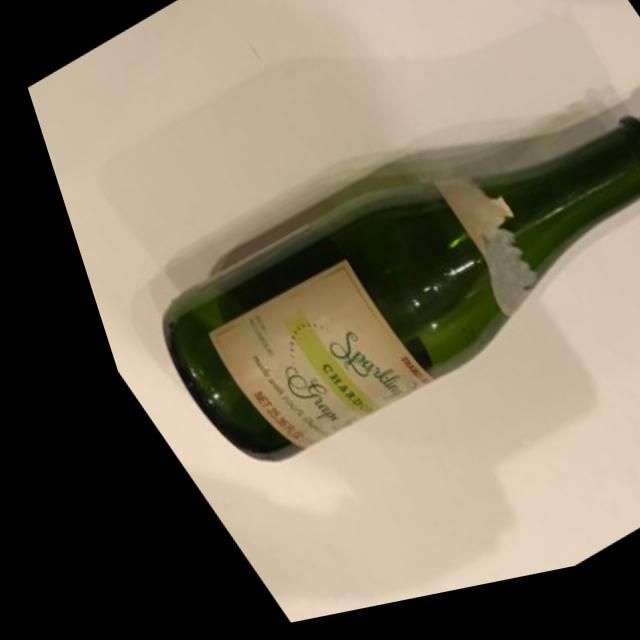glass: (17, 0, 640, 607)
